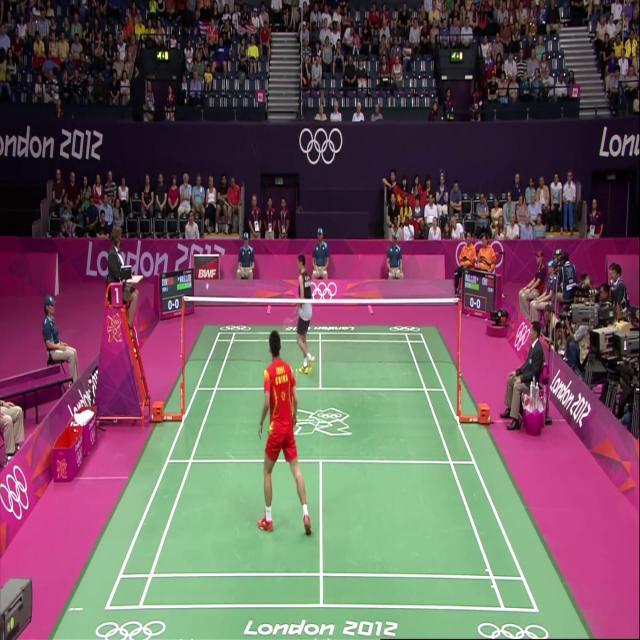Net: (180, 294, 461, 369)
Player1: (244, 328, 318, 544)
Player2: (288, 251, 328, 369)
Shuttlecock: (203, 278, 214, 295)
